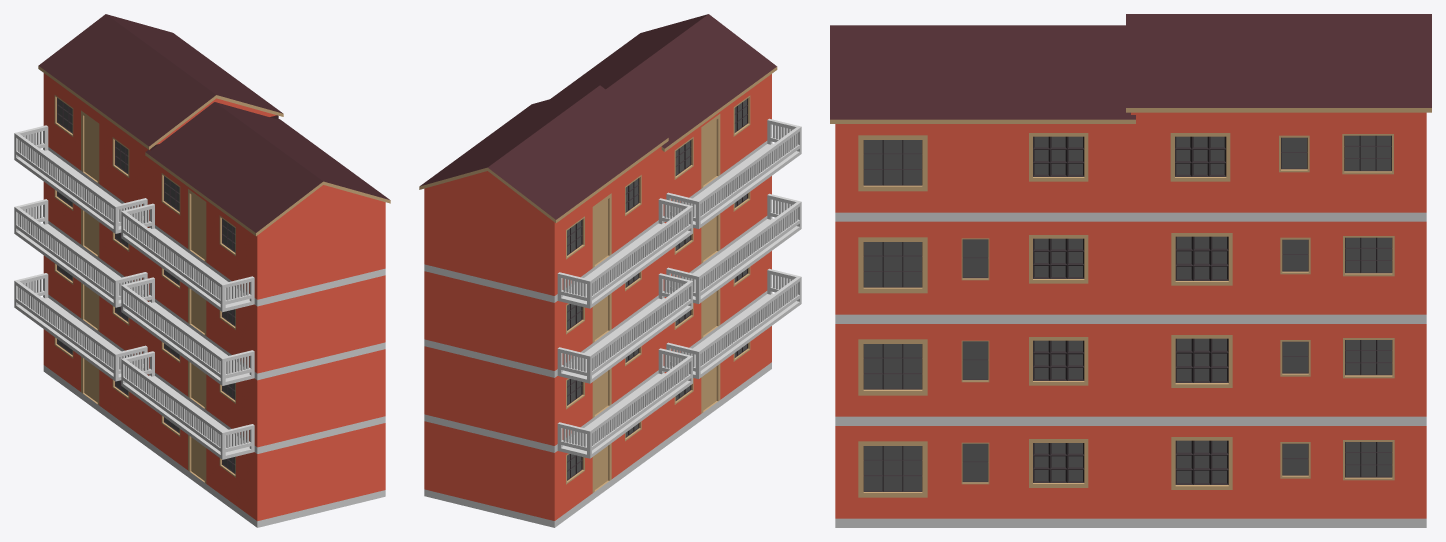
Rendered from Apartment 5.fbx.
3 views of the same model, side by side, from view 1: azimuth 30°, elevation 25°; view 2: azimuth 150°, elevation 25°; view 3: azimuth 270°, elevation 25° (orthographic). The views are drawn at different scales.
Parts seen in each view (by area): view 1: building_003; view 2: building_003; view 3: building_003.
Boxes of the visible parts, x1=… form: building_003: x1=14, y1=14, x2=390, y2=527; building_003: x1=419, y1=14, x2=801, y2=527; building_003: x1=830, y1=14, x2=1431, y2=527.
Bounding box in the file's own units: 510 × 1015 × 1176.
